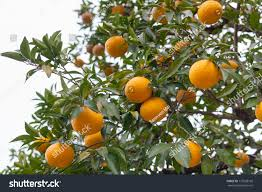orange: (189, 59, 219, 89), (45, 140, 77, 167), (72, 106, 104, 132), (172, 141, 204, 167), (139, 97, 168, 125), (123, 76, 154, 101), (103, 34, 130, 55)
